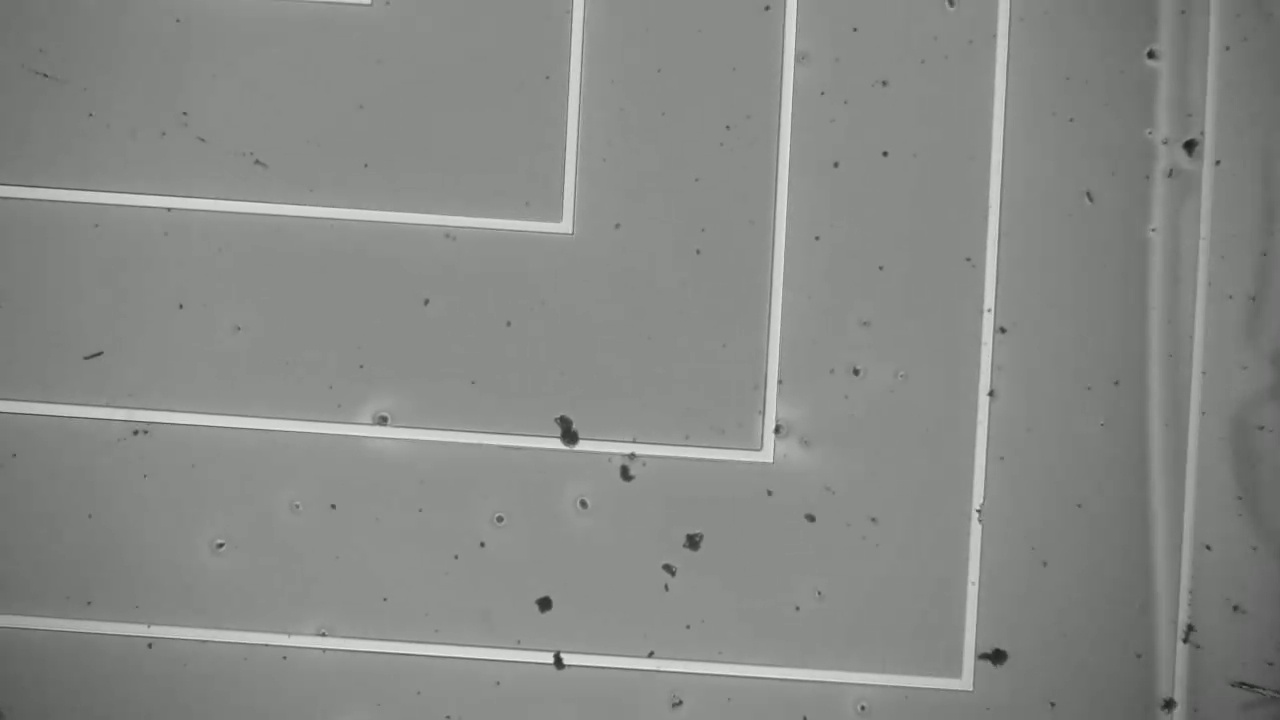edge_bite: (954, 491, 996, 537)
stains_enbedded: (539, 405, 584, 460), (537, 640, 569, 675)
